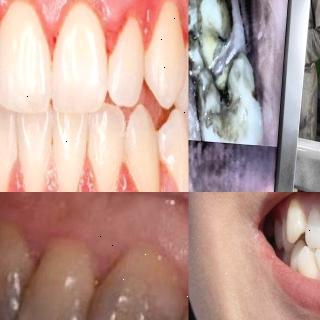maligned: (279, 194, 306, 239), (298, 246, 317, 276), (315, 244, 320, 279)
plaque: (0, 0, 178, 44), (0, 166, 188, 191)
